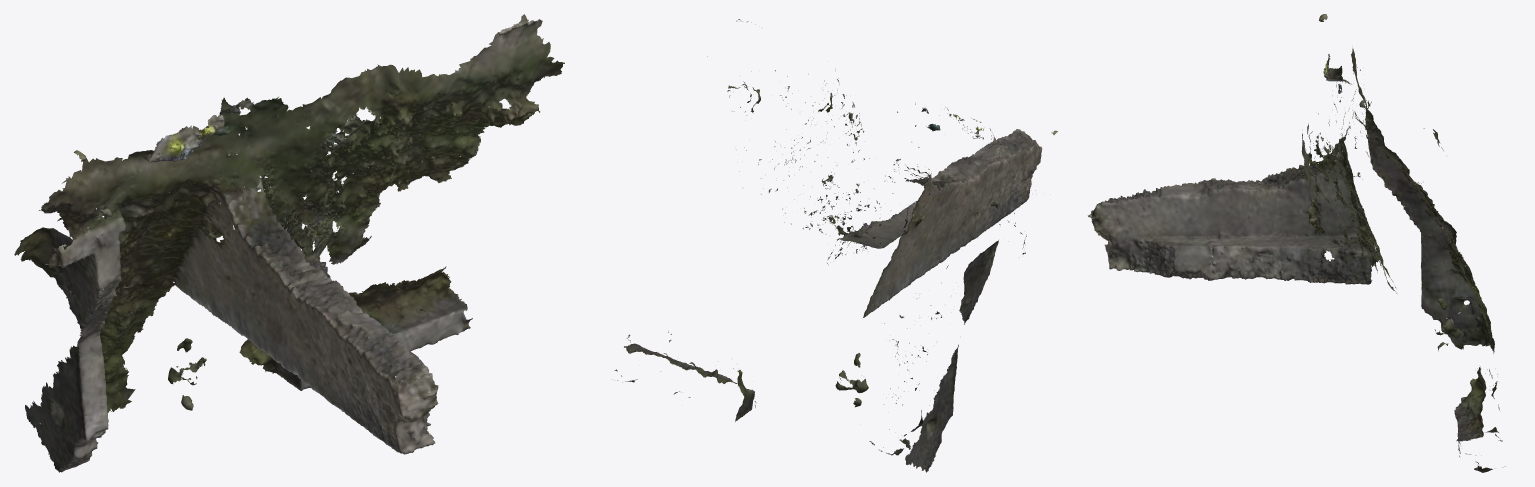
3 views of the same model, side by side, from view 1: azimuth 30°, elevation 25°; view 2: azimuth 150°, elevation 25°; view 3: azimuth 270°, elevation 25° (orthographic). The views are drawn at different scales.
Size of the model in its own units: 19.45 by 16.1 by 18.74.
1 material, 1 textured.
